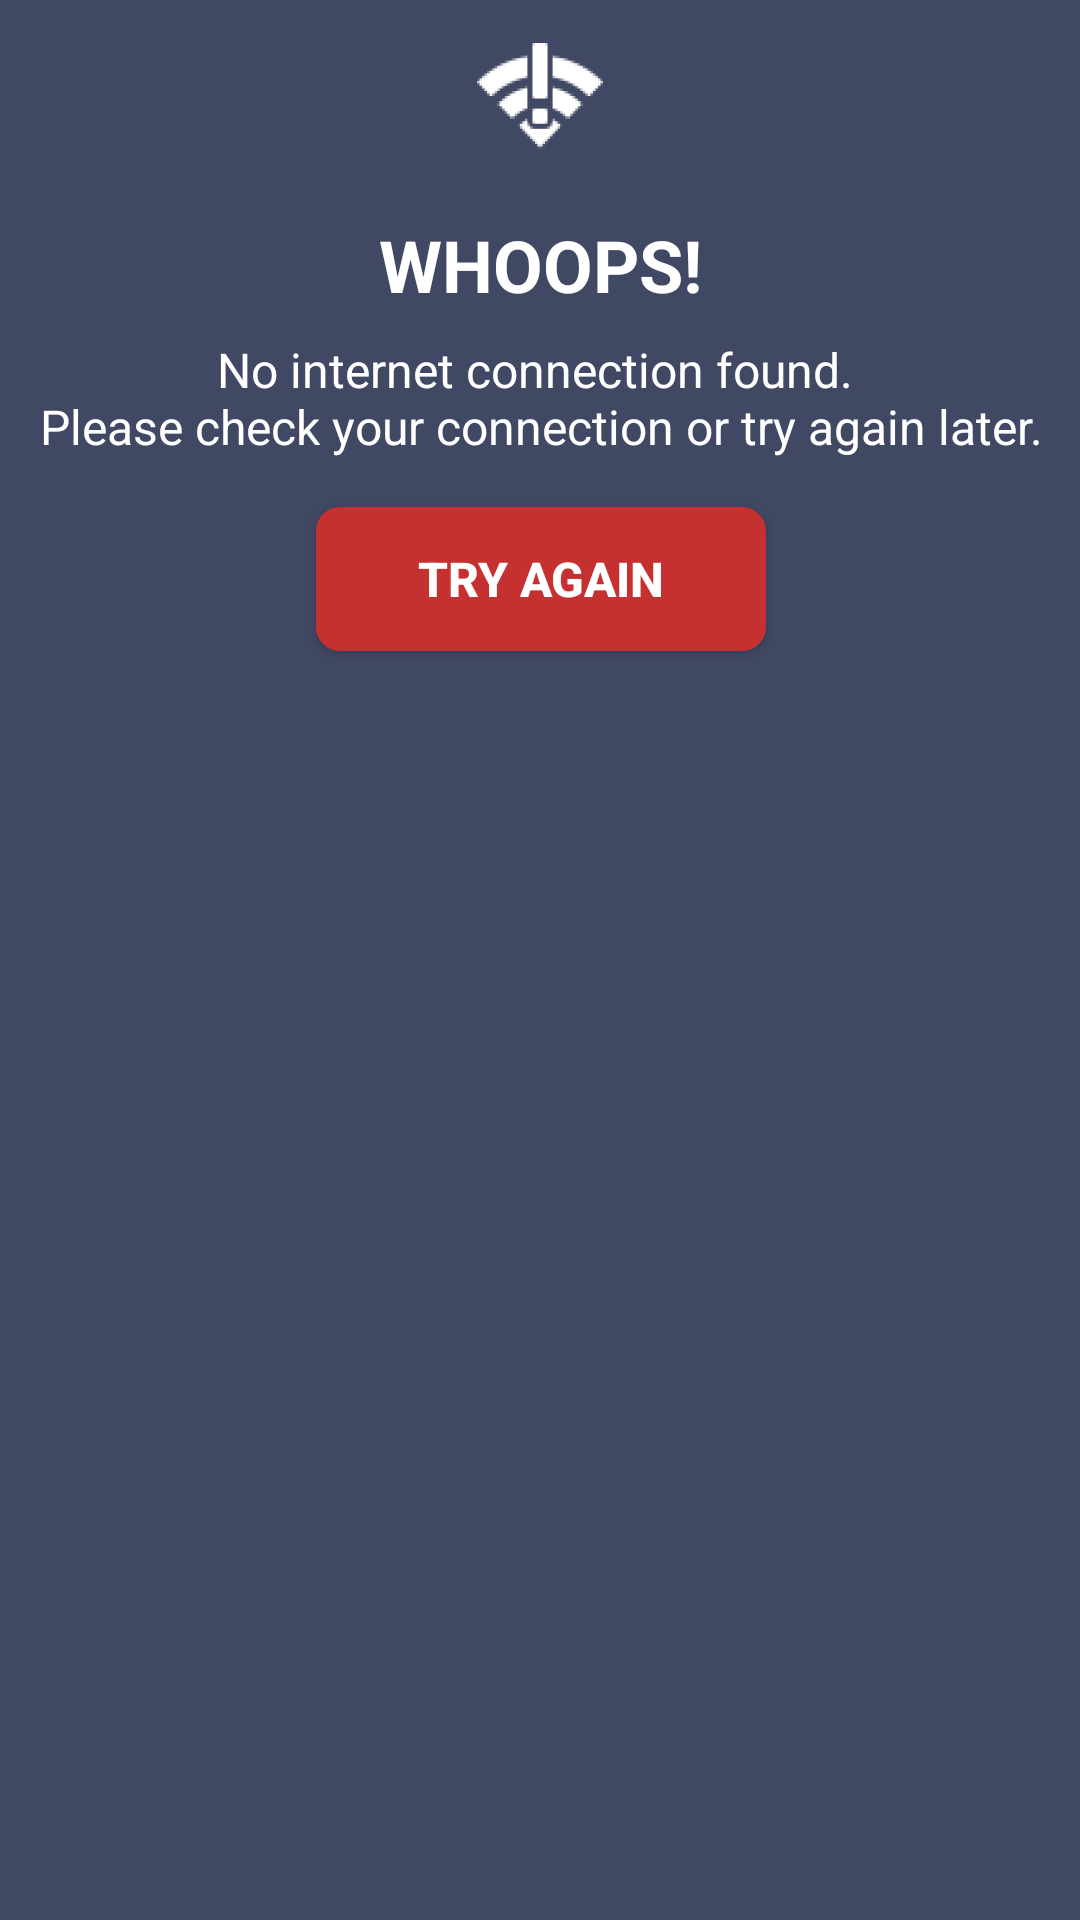

Where icons sit on this 1080*1920 app screen, as (x1, y1, x2, y2):
no internet: (477, 43, 603, 147)
